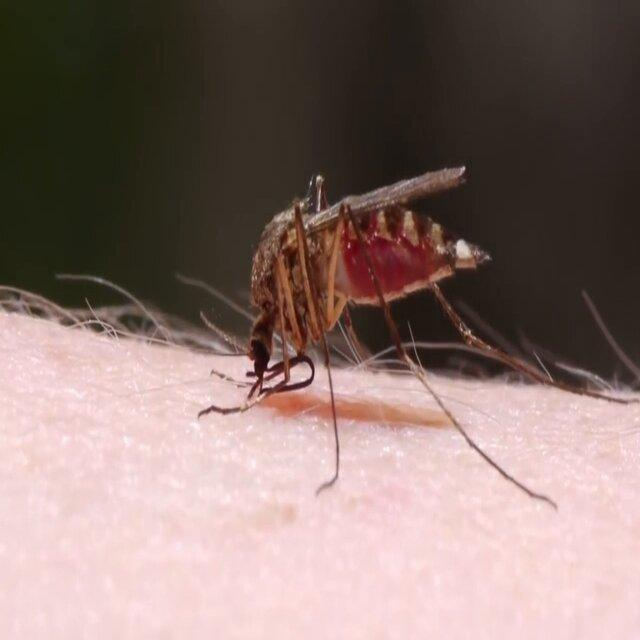mosquitos: (248, 169, 472, 376)
